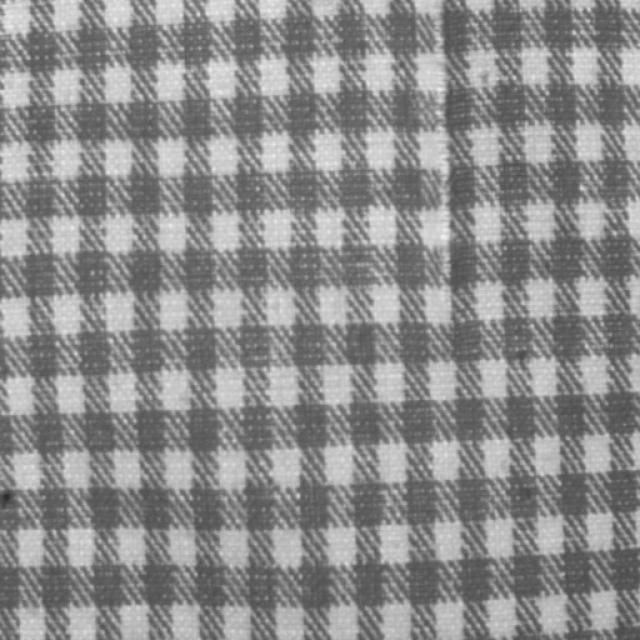Thread-Defect: (428, 1, 460, 296)
